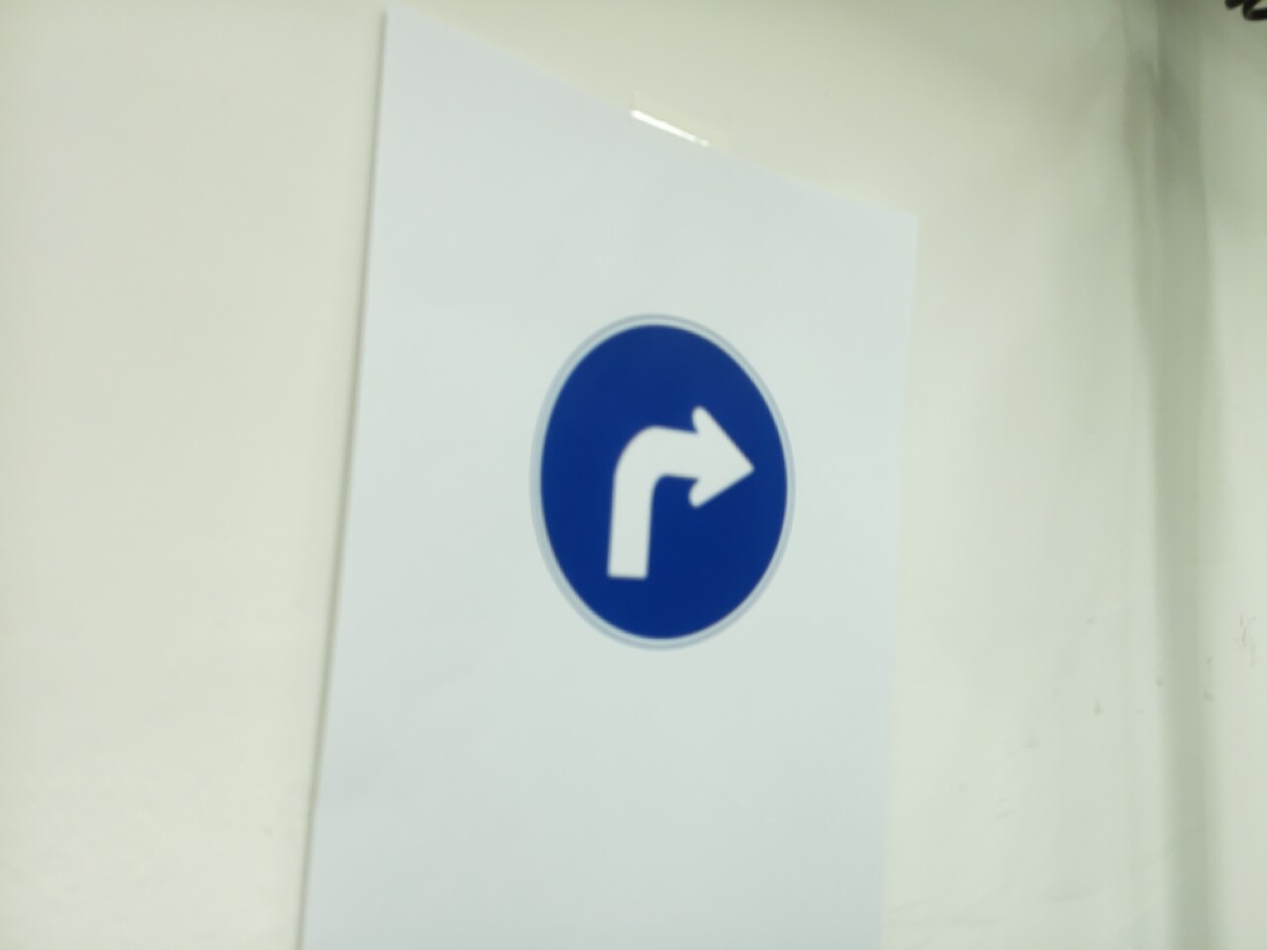right_turn: (532, 315, 797, 649)
